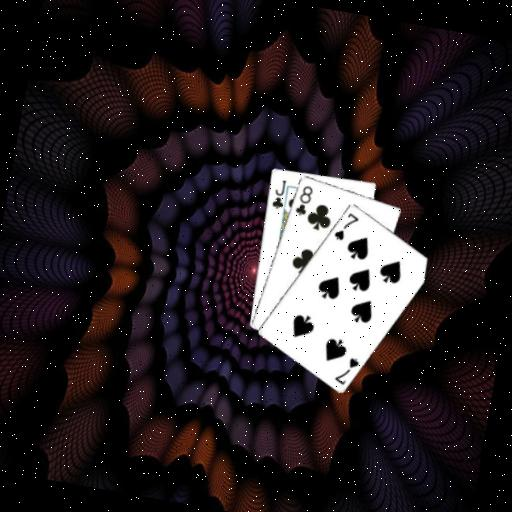7S: (329, 351, 361, 389), (330, 207, 361, 244)
8C: (291, 180, 315, 218)
JC: (268, 175, 289, 211)
